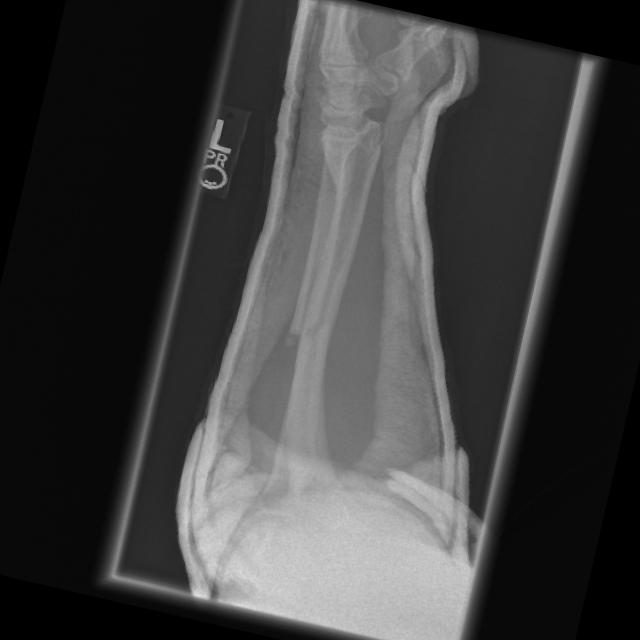forearm fracture: (264, 279, 361, 391)
